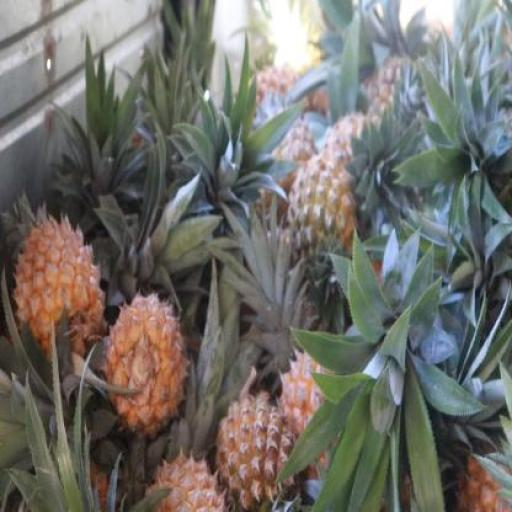Pineapple - v8 v1: (12, 211, 104, 358), (106, 292, 184, 426), (217, 388, 294, 512)
